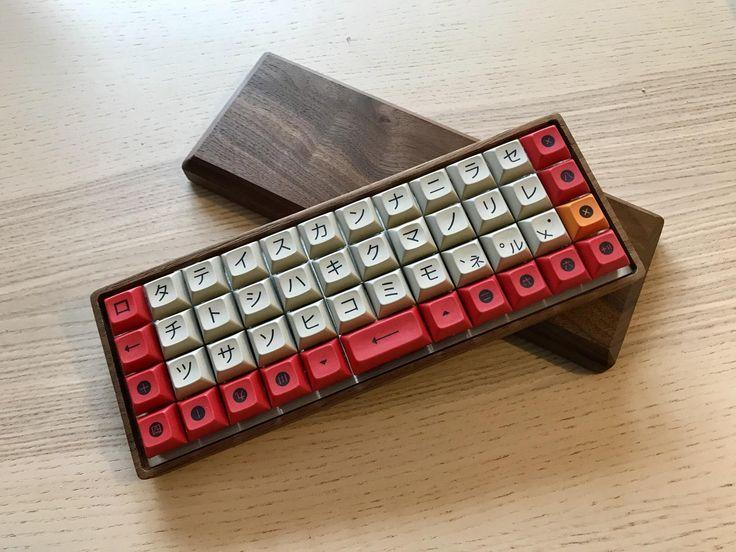keyboard: (89, 111, 642, 479)
